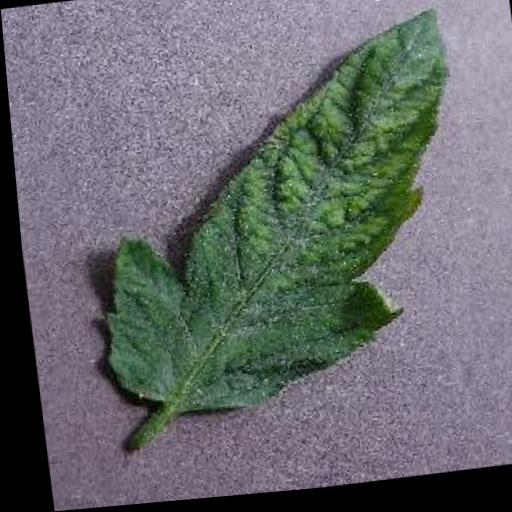Mosaic Virus: (59, 11, 481, 430)
